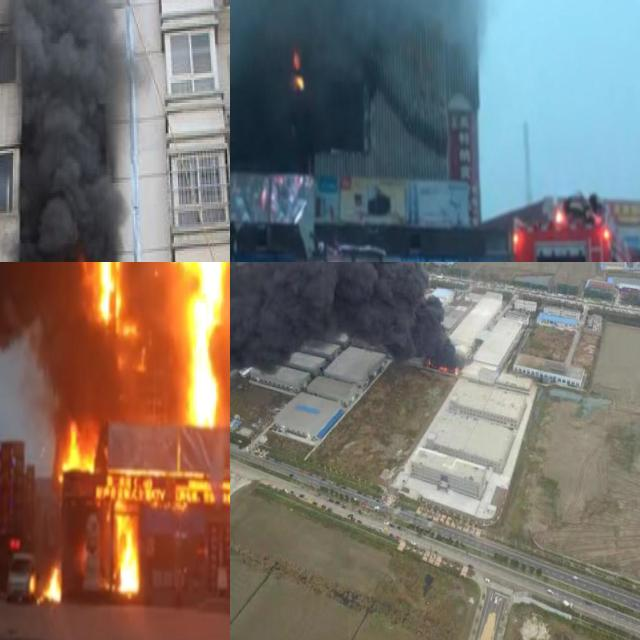fire: (176, 262, 225, 423), (69, 262, 128, 332), (57, 420, 96, 480), (115, 512, 138, 594), (31, 561, 62, 604), (291, 49, 304, 92), (428, 360, 460, 376)
smoke: (2, 0, 120, 262), (230, 0, 491, 108), (230, 262, 455, 364), (37, 330, 105, 421)
